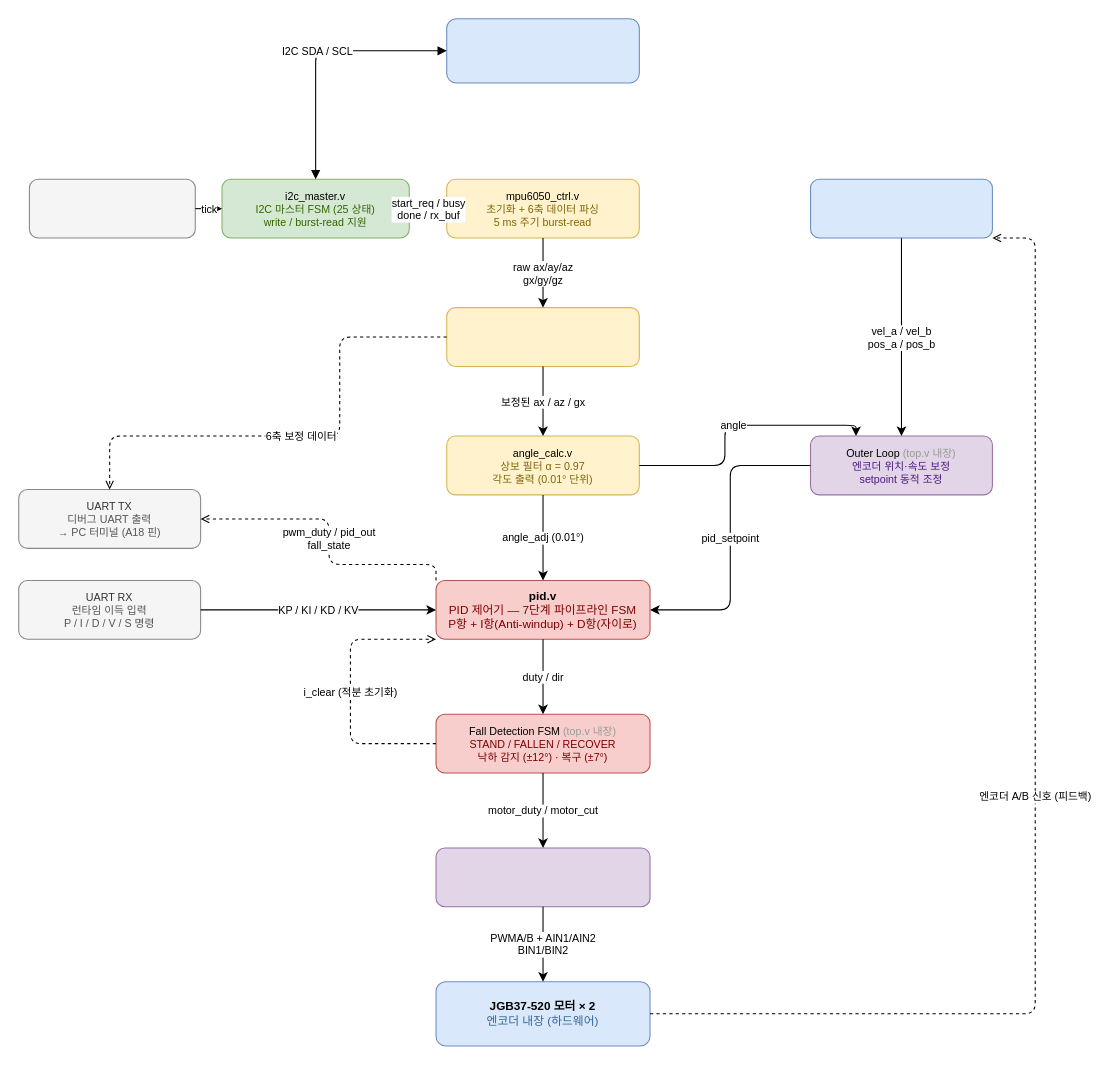
This 1110x1065 diagram has some shape labels left out. The box of each missing label's shape, as (x1, y1, x2, y2) in pixels:
Bias 보정 (top.v 내장) 32샘플 평균 → 정적 오프셋 제거: (446, 307, 639, 366)
encoder.v 쿼드라처 디코더 위치(pos) / 속도(vel) 측정: (809, 178, 992, 238)
MPU6050 6축 IMU 센서 (하드웨어): (446, 18, 639, 83)
TB6612FNG.v 모터 드라이버 / 20 kHz PWM AIN1/AIN2 · BIN1/BIN2 방향 제어: (435, 847, 650, 907)
클럭 분주 100 MHz → 100 kHz tick: (28, 178, 195, 238)
